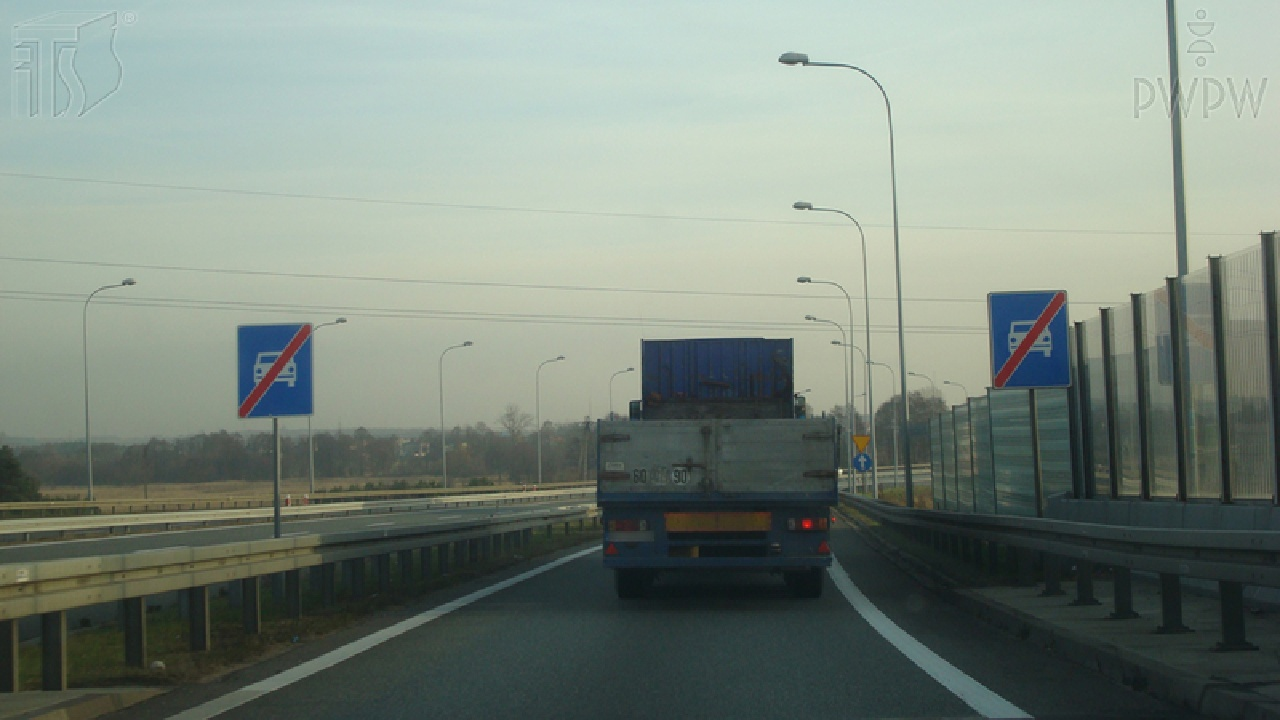A7: (852, 435, 871, 453)
C5: (853, 454, 872, 473)
D8: (985, 291, 1069, 389), (237, 322, 314, 418)
